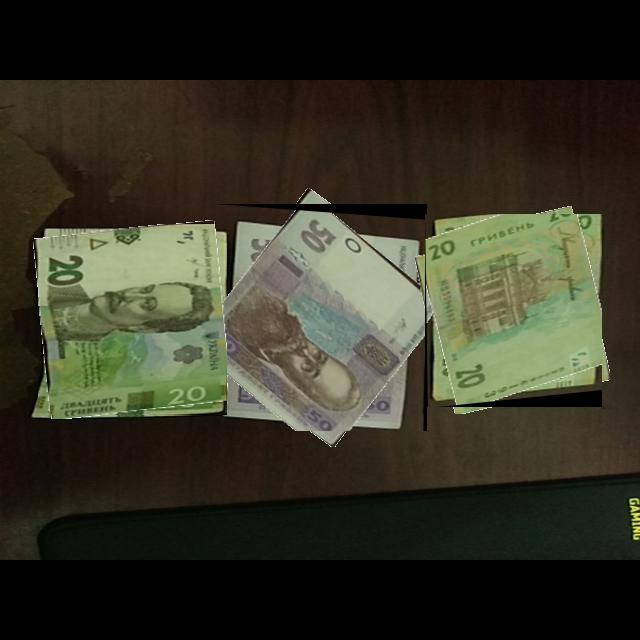20uah: (38, 224, 228, 416), (425, 214, 603, 408)
50uah: (214, 204, 428, 432)
